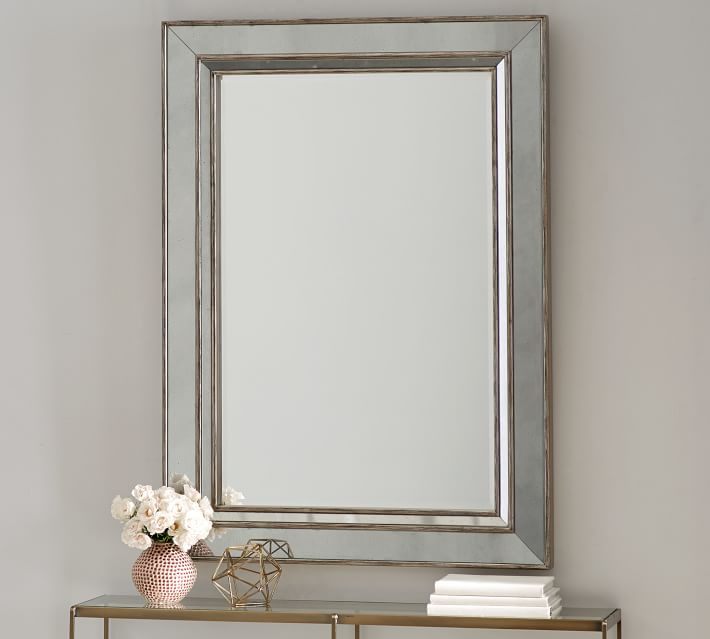Nonrec_Glass: (98, 1, 586, 581)
